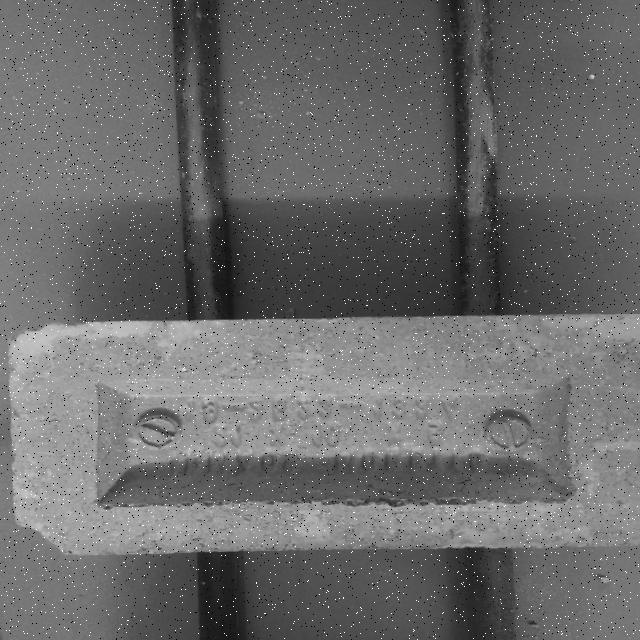bricks_ruin: (8, 316, 640, 556)
